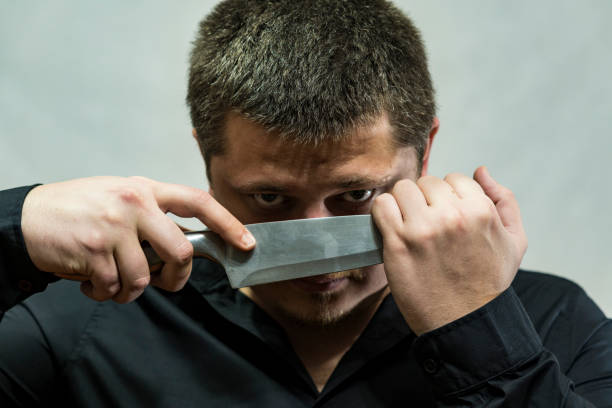knife: (79, 213, 385, 303)
